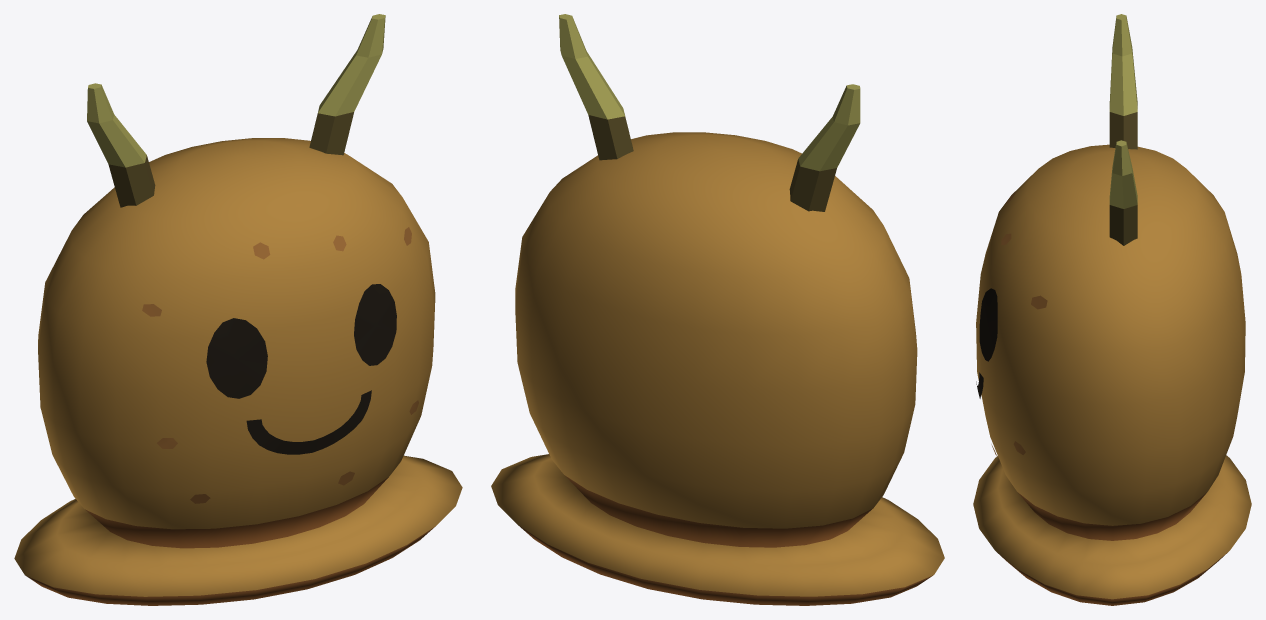
Rendered from HKD-E01.v1a.1.glb.
3 views of the same model, side by side, from view 1: azimuth 30°, elevation 25°; view 2: azimuth 150°, elevation 25°; view 3: azimuth 270°, elevation 25° (orthographic). The views are drawn at different scales.
Parts seen in each view (by area): view 1: HKD_E01_Mesh; view 2: HKD_E01_Mesh; view 3: HKD_E01_Mesh.
Boxes of the visible parts, <box> form: HKD_E01_Mesh: <box>14,14,462,605</box>; HKD_E01_Mesh: <box>491,14,944,605</box>; HKD_E01_Mesh: <box>973,14,1251,605</box>.
Size of the model in its own units: 1 by 1.08 by 0.62.
